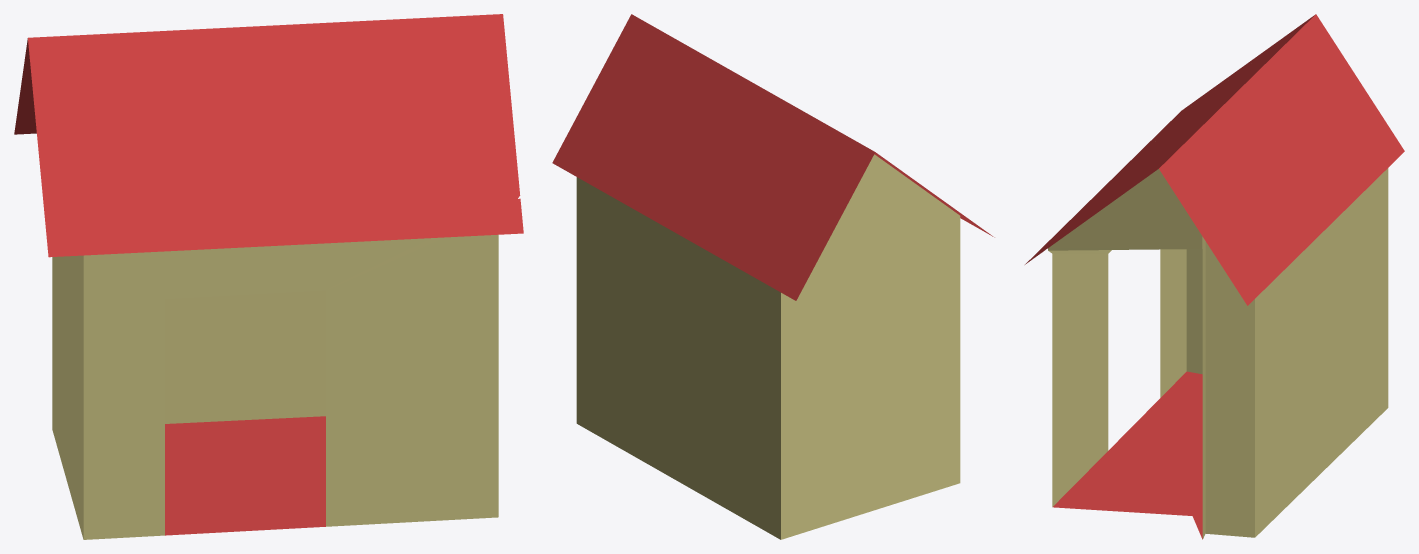
The picture shows the model from 3 angles, left to right: view 1: azimuth 30°, elevation 25°; view 2: azimuth 150°, elevation 25°; view 3: azimuth 270°, elevation 25°; orthographic projection. The views are drawn at different scales.
Bounding box in the file's own units: 15.84 × 13.05 × 13.85.
